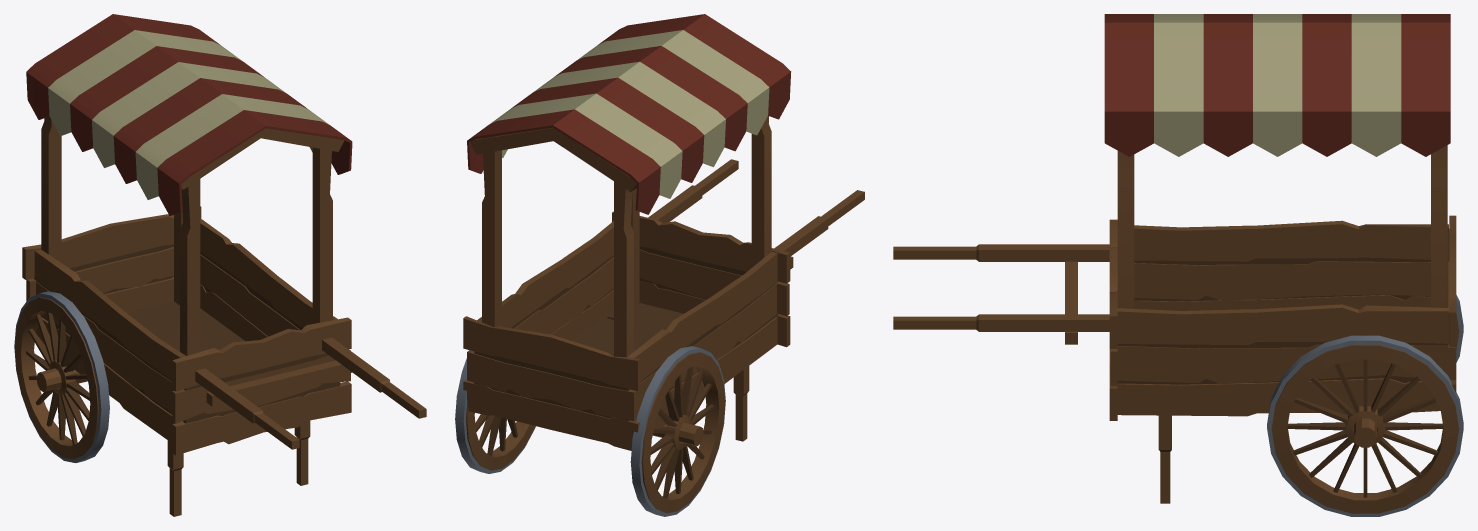
The model's file is cart.glb.
3 views of the same model, side by side, from view 1: azimuth 30°, elevation 25°; view 2: azimuth 150°, elevation 25°; view 3: azimuth 270°, elevation 25° (orthographic). The views are drawn at different scales.
Visible parts, largest first — view 1: Cart; view 2: Cart; view 3: Cart.
Part boxes in pixels (x1=…): Cart: x1=14, y1=14, x2=426, y2=516; Cart: x1=455, y1=14, x2=864, y2=516; Cart: x1=893, y1=14, x2=1463, y2=516.
Bounding box in the file's own units: 0.462 × 0.7961 × 0.9274.
